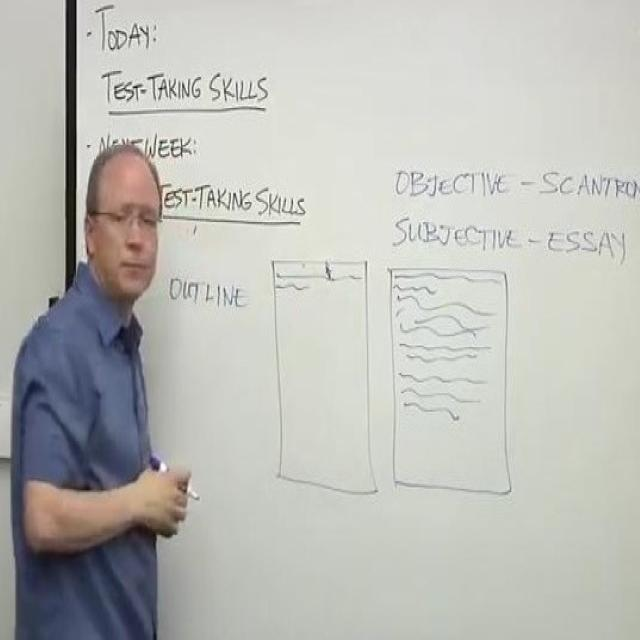Instructor: (0, 127, 180, 636)
White-board: (78, 0, 640, 640)
